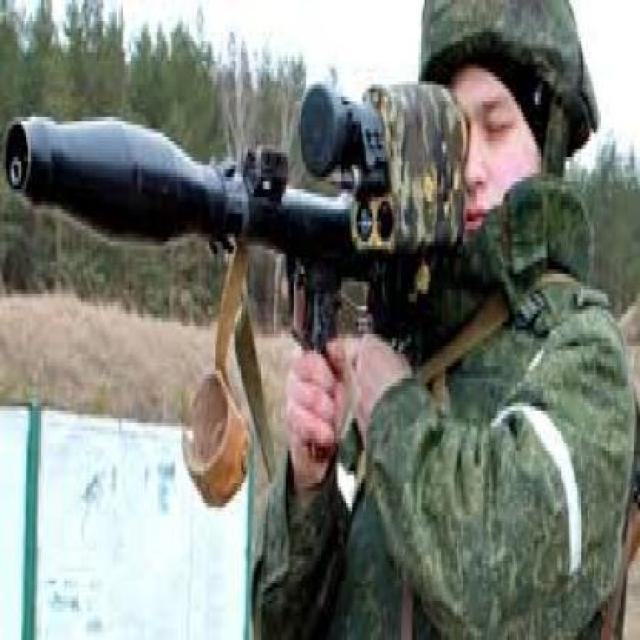weapon: (0, 40, 612, 502)
